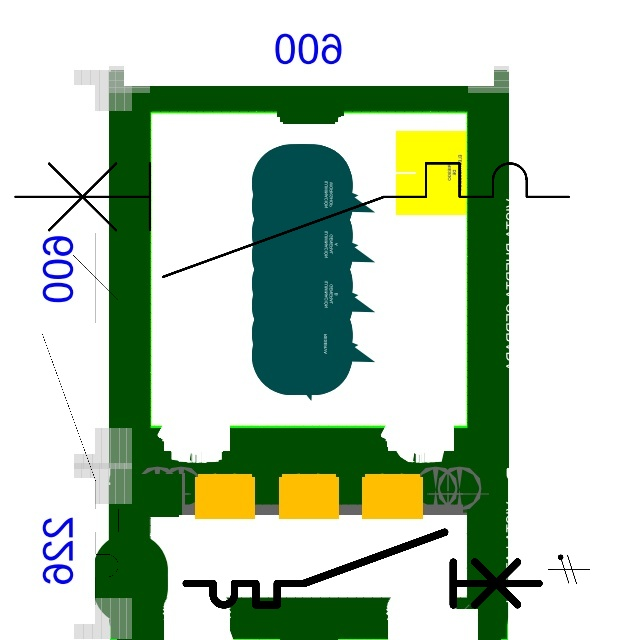interruptor_termomagnetico: (1, 149, 583, 291), (32, 223, 128, 615), (177, 523, 548, 614)
